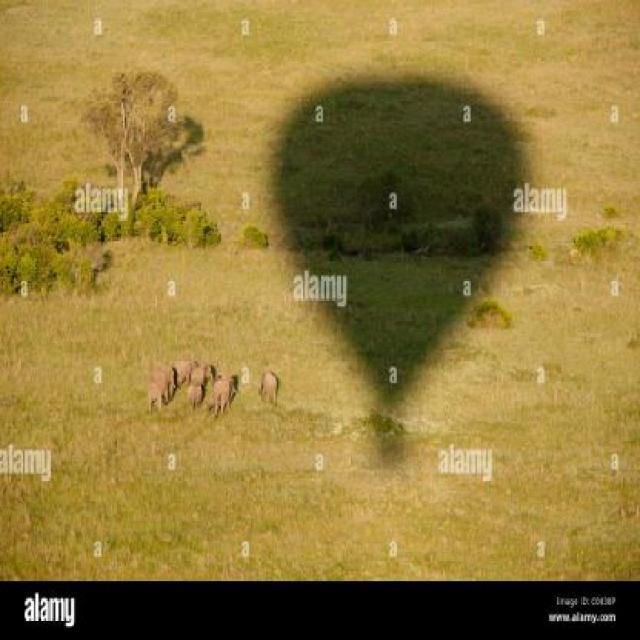elephant: (137, 361, 178, 405), (204, 368, 238, 415), (257, 363, 280, 403), (176, 354, 198, 384), (195, 360, 216, 389), (187, 384, 202, 408)
